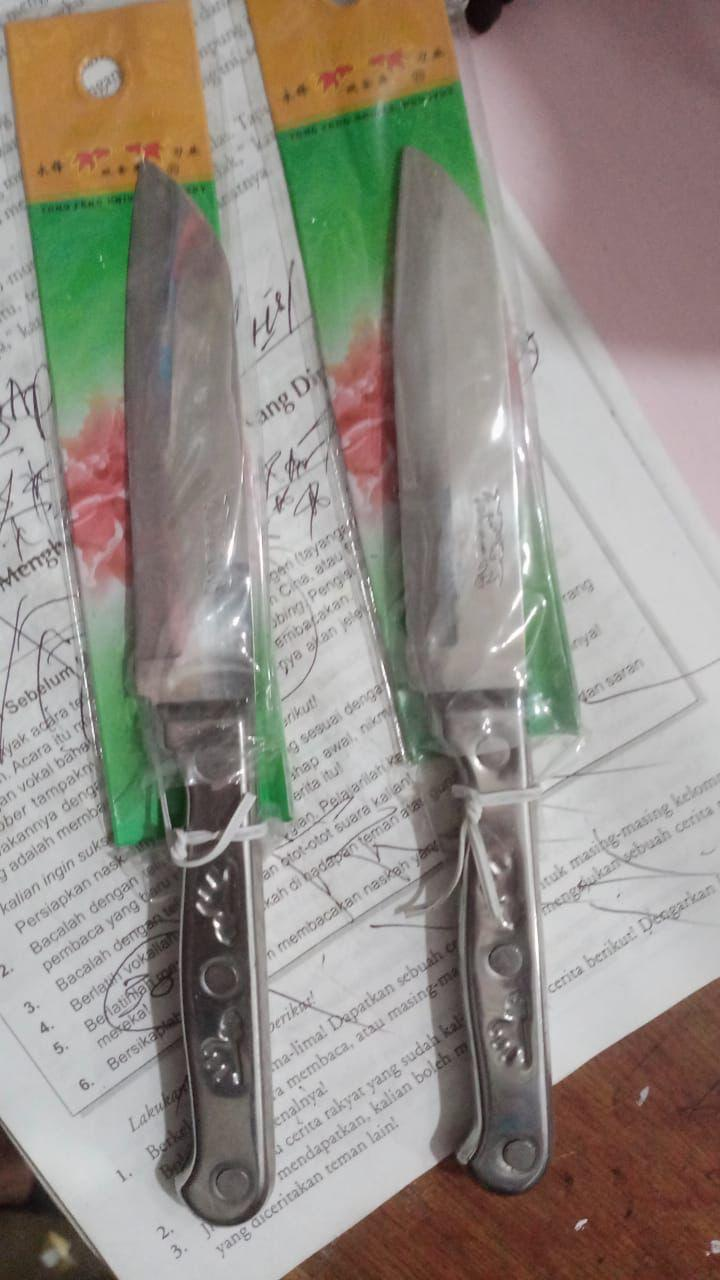faca: (393, 148, 551, 1193), (125, 161, 274, 1227)
